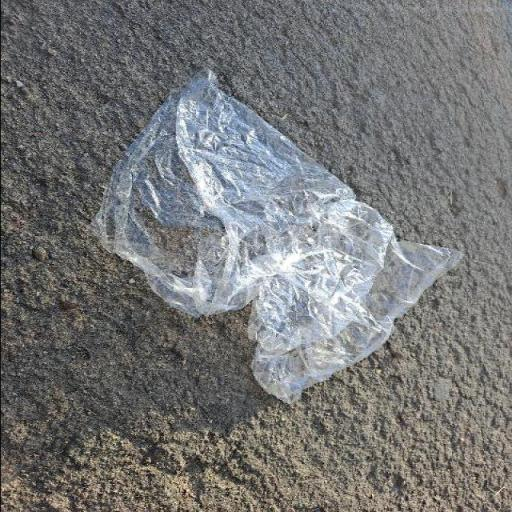plastic-bag: (88, 68, 466, 405)
